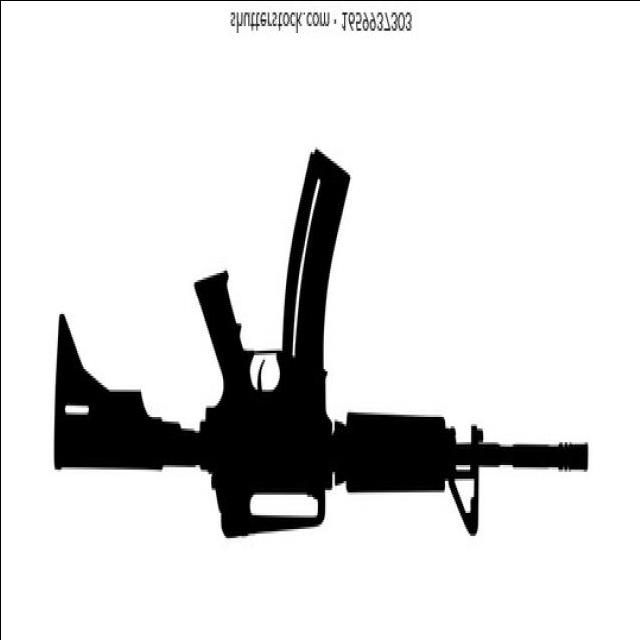rifle: (42, 115, 620, 568)
